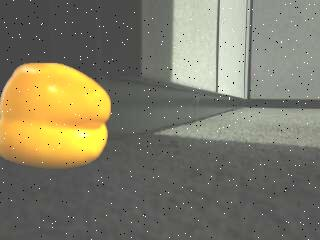Capsicum: (0, 63, 111, 168)
